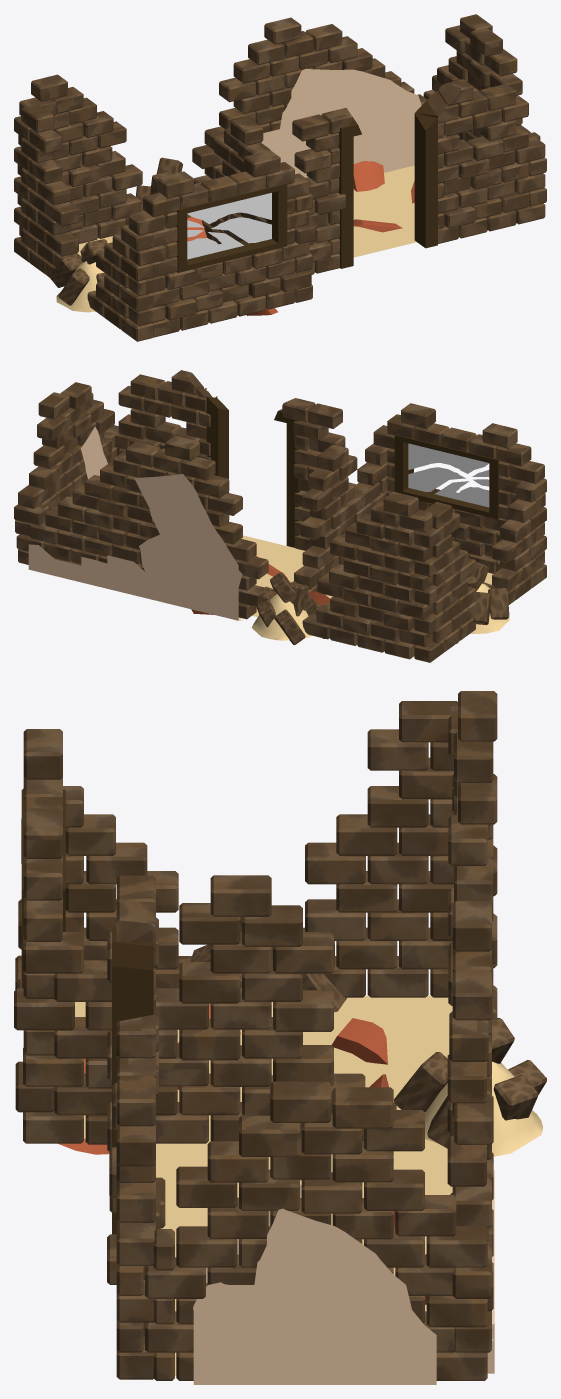
Rendered from RuinedHouse.fbx.
3 renders of one model, top to bottom at view 1: azimuth 30°, elevation 25°; view 2: azimuth 150°, elevation 25°; view 3: azimuth 270°, elevation 25°, orthographic. The views are drawn at different scales.
Visible parts, largest first — view 1: Walls, RemainingPlaster, Dirt_FloorShape, Door_Frame, WindowFrame, BrokenWindow, polySurface671, polySurface670, polySurface672, polySurface667; view 2: Walls, RemainingPlaster, BrokenWindow, Door_Frame, WindowFrame, Dirt_FloorShape, polySurface667, polySurface666, polySurface669, polySurface671, RemainingPlaster1, polySurface672 (+1 smaller); view 3: Walls, RemainingPlaster1, Dirt_FloorShape, Door_Frame, polySurface667, polySurface666, polySurface669, WindowFrame.
Part boxes in pixels (left/top/right/bottom): Walls: left=14, top=14, right=546, bottom=341; RemainingPlaster: left=261, top=68, right=421, bottom=177; Dirt_FloorShape: left=77, top=161, right=416, bottom=315; Door_Frame: left=338, top=100, right=437, bottom=268; WindowFrame: left=176, top=183, right=287, bottom=272; BrokenWindow: left=187, top=193, right=271, bottom=259; polySurface671: left=49, top=239, right=107, bottom=287; polySurface670: left=56, top=261, right=103, bottom=312; polySurface672: left=58, top=268, right=89, bottom=305; polySurface667: left=150, top=157, right=192, bottom=217; Walls: left=14, top=370, right=546, bottom=662; RemainingPlaster: left=28, top=474, right=243, bottom=620; BrokenWindow: left=408, top=443, right=489, bottom=507; Door_Frame: left=206, top=396, right=300, bottom=547; WindowFrame: left=394, top=434, right=499, bottom=519; Dirt_FloorShape: left=191, top=535, right=493, bottom=616; polySurface667: left=270, top=572, right=324, bottom=638; polySurface666: left=251, top=594, right=311, bottom=640; polySurface669: left=257, top=600, right=305, bottom=644; polySurface671: left=456, top=562, right=491, bottom=643; RemainingPlaster1: left=81, top=426, right=107, bottom=478; polySurface672: left=488, top=588, right=509, bottom=619; Walls: left=14, top=691, right=497, bottom=1380; RemainingPlaster1: left=193, top=1184, right=436, bottom=1384; Dirt_FloorShape: left=58, top=995, right=452, bottom=1375; Door_Frame: left=112, top=927, right=153, bottom=1234; polySurface667: left=394, top=1017, right=514, bottom=1111; polySurface666: left=425, top=1061, right=542, bottom=1156; polySurface669: left=493, top=1060, right=546, bottom=1120; WindowFrame: left=21, top=789, right=65, bottom=988.
Size of the model in its own units: 1033 by 416 by 554.
7 materials, 1 textured.
